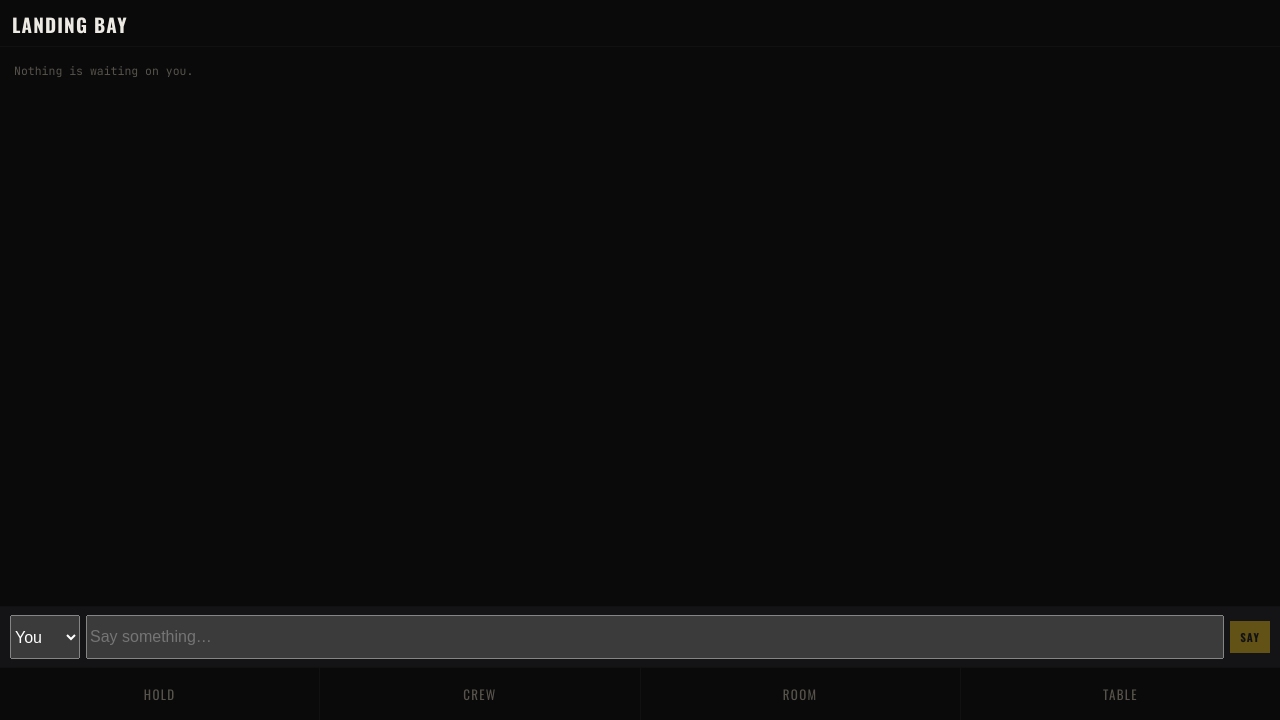
the table drawer › says there is nobody to whisper to rather than offering an empty picker
Click the tab "Table" at point(1120, 694), box [961,668,1279,719]
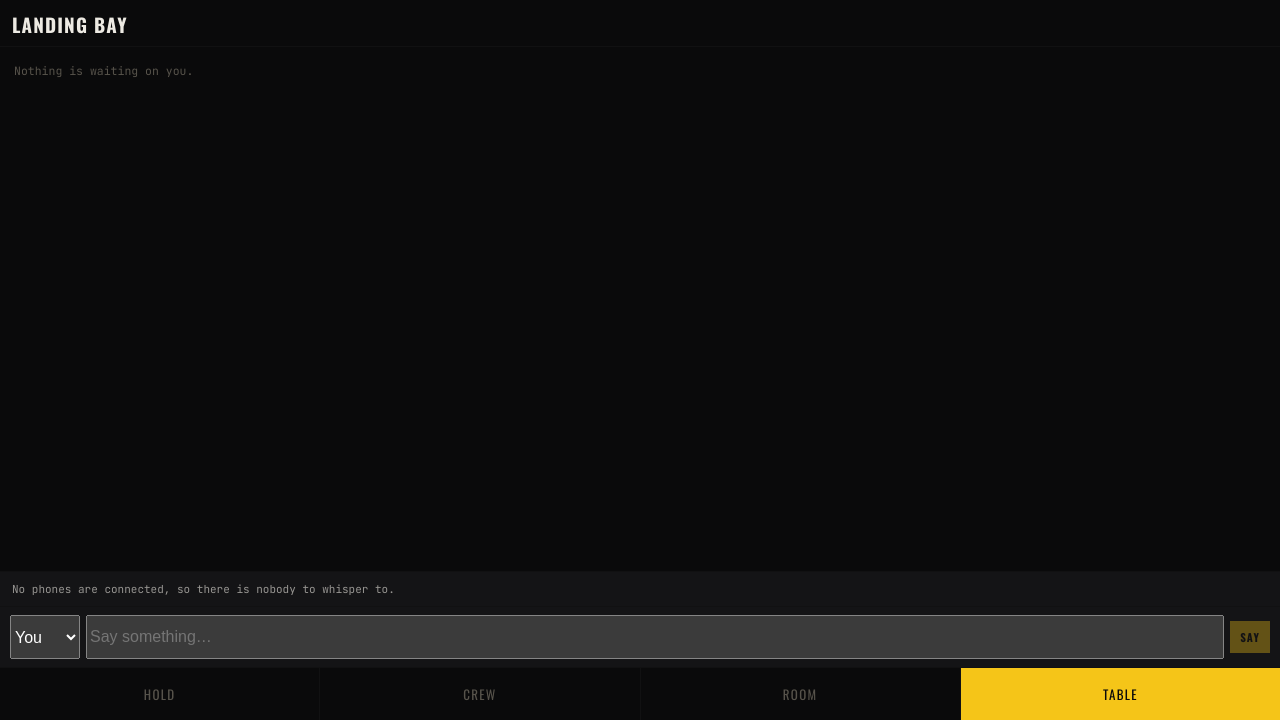
Check: the text "No phones are connected, so there is nobody to whisper to." is shown, box [12,582,395,596]
